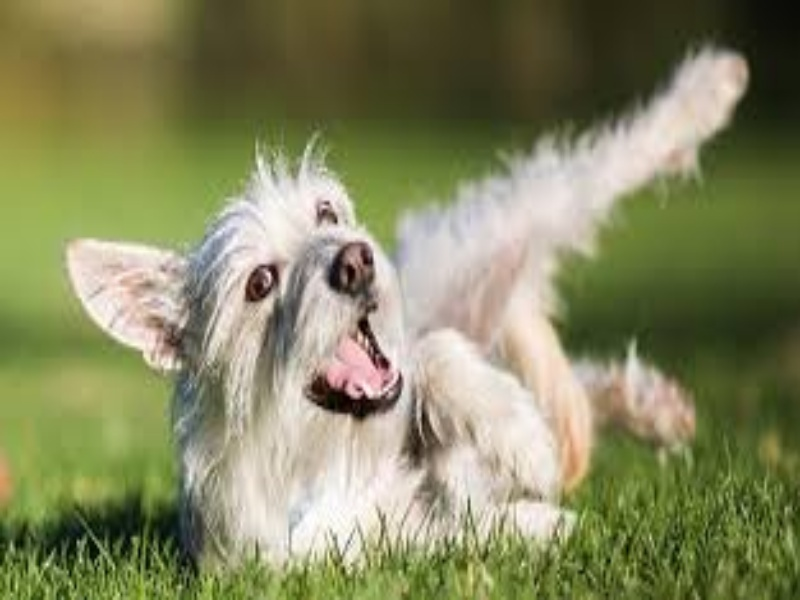dog: (50, 22, 754, 558)
